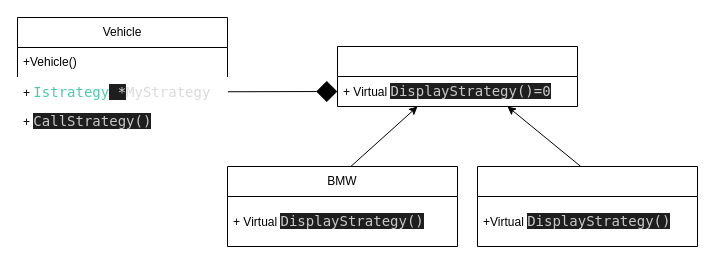
Image size: 715x264. Some labels were removed from this diagram. The shapes that lost their labels are listed below. From the top down, each one's box as (x1, y1, x2, y2) in pixels, then its label:
(336, 46, 578, 106): ISStrategy_Abstract
(476, 166, 698, 246): MiniCooper
